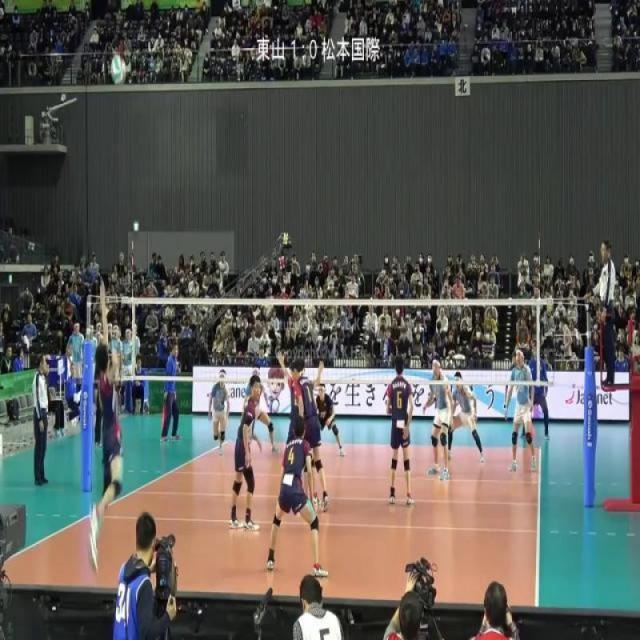volleyball: (109, 53, 128, 86)
